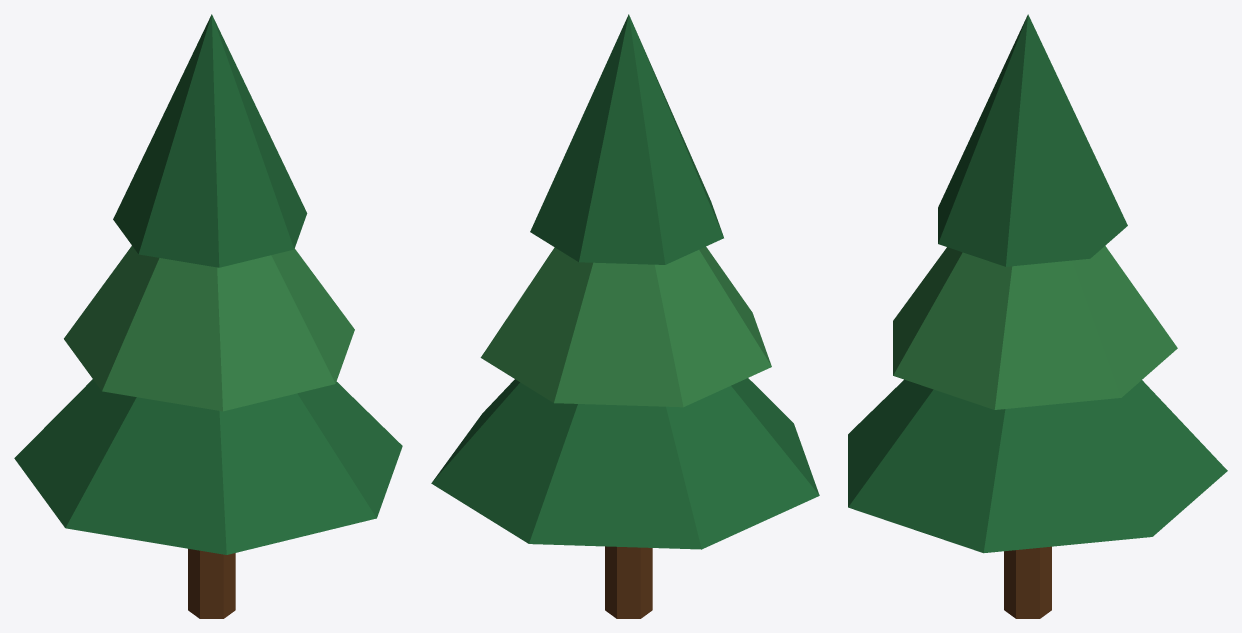
File: nature2_pine_tree.glb
3 renders of one model, left to right at view 1: azimuth 30°, elevation 25°; view 2: azimuth 150°, elevation 25°; view 3: azimuth 270°, elevation 25°, orthographic.
Visible parts, largest first — view 1: pine_tree; view 2: pine_tree; view 3: pine_tree.
Boxes of the visible parts, x1=… form: pine_tree: x1=14, y1=14, x2=402, y2=618; pine_tree: x1=431, y1=14, x2=819, y2=618; pine_tree: x1=848, y1=14, x2=1227, y2=618.
Size of the model in its own units: 2.53 by 4.28 by 2.47.
